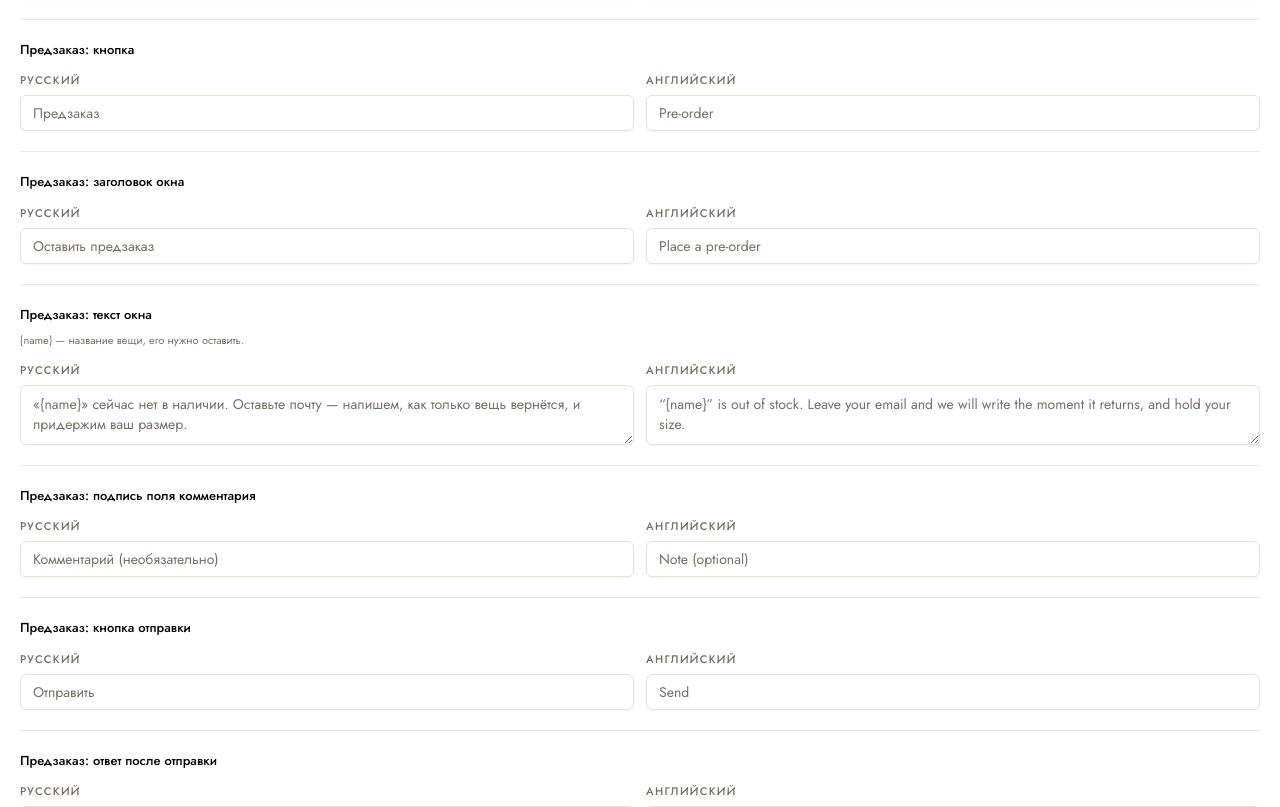
Test case: admin site texts › a lost placeholder is named at the field and blocks saving
(page scrolled)
In the text box labelled "Русский" below "Предзаказ: текст окна": (327, 415) x1=20 y1=385 x2=634 y2=445, type "Вещи нет, напишем"
(page scrolled)
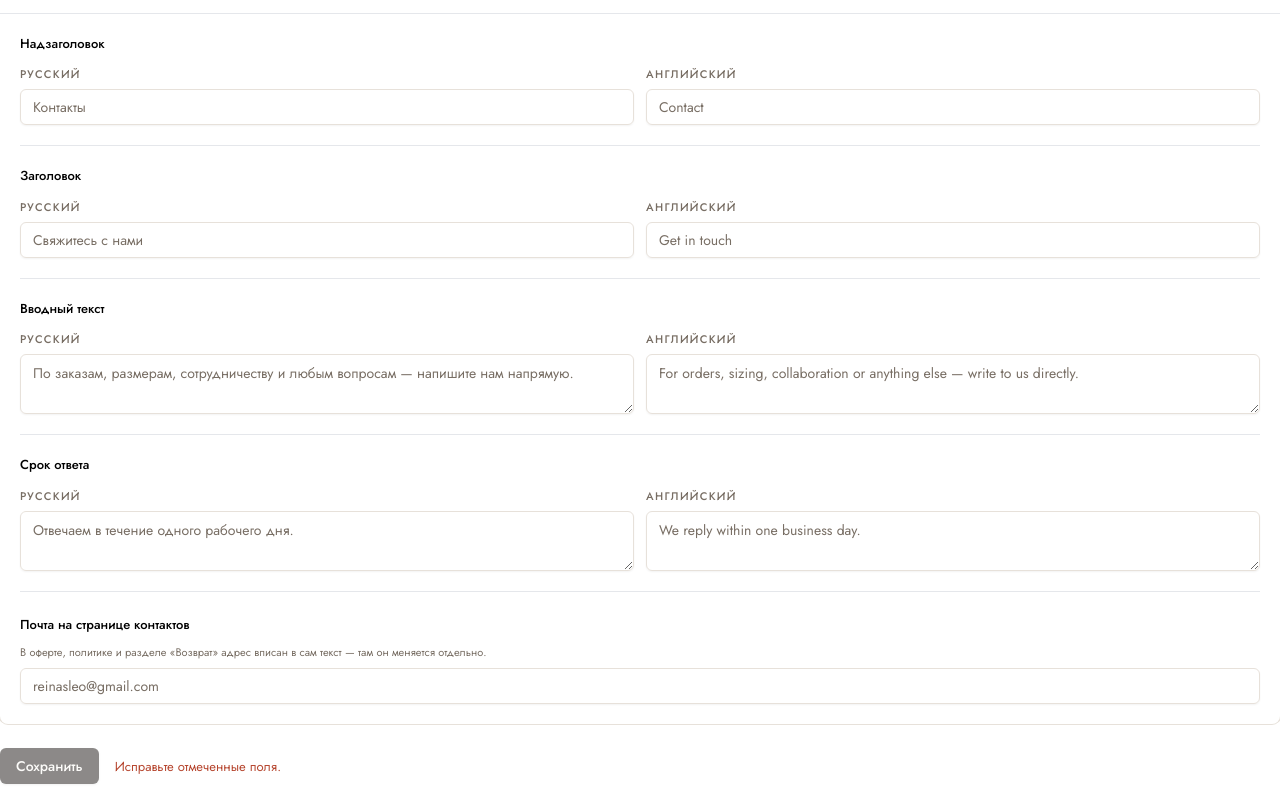
Check: the button "Сохранить" is disabled, box x1=0 y1=748 x2=99 y2=784
